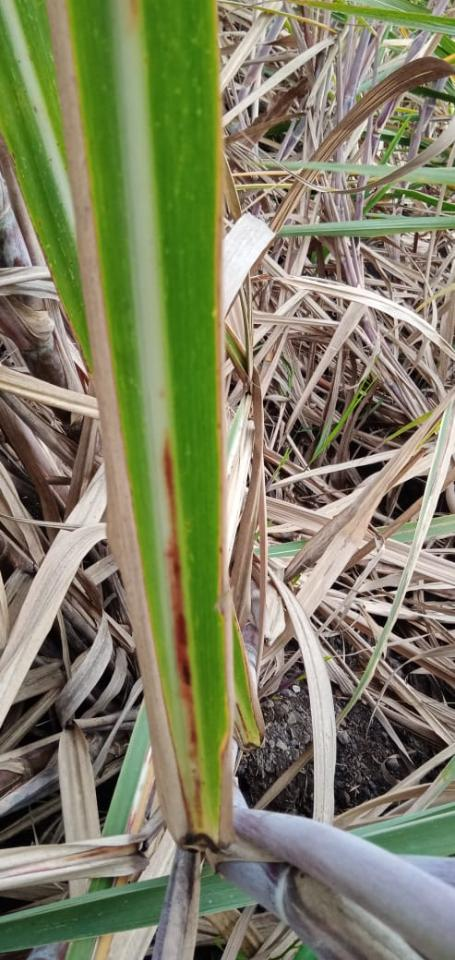RedRot: (161, 436, 198, 760), (124, 0, 139, 37), (194, 773, 204, 828)
Yellow: (43, 0, 193, 843), (211, 0, 235, 760)
